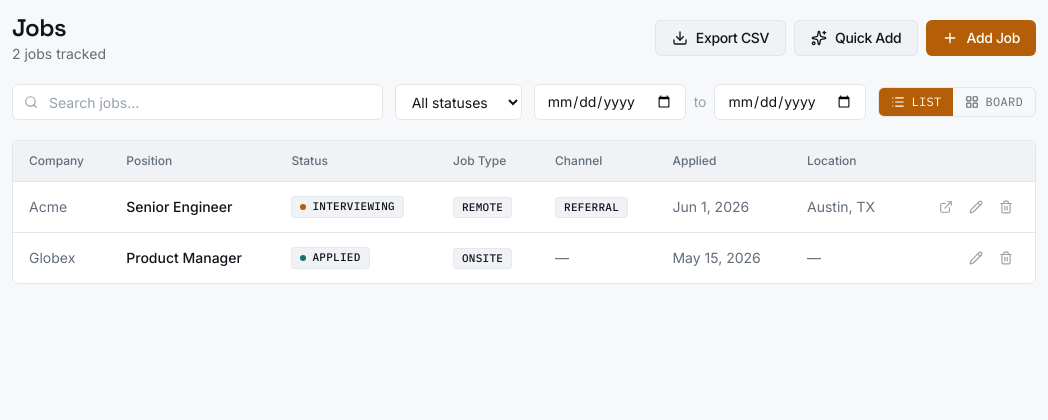
it: JobsPage › empty state › says no jobs match when a filter empties the list, and clears the filters
The image size is (1048, 420).
Expected: the text "Acme" is shown, [13,182,110,232]
Select "Offer" in the dropdown named "Filter by status" at (458, 102), box [395,84,522,120]
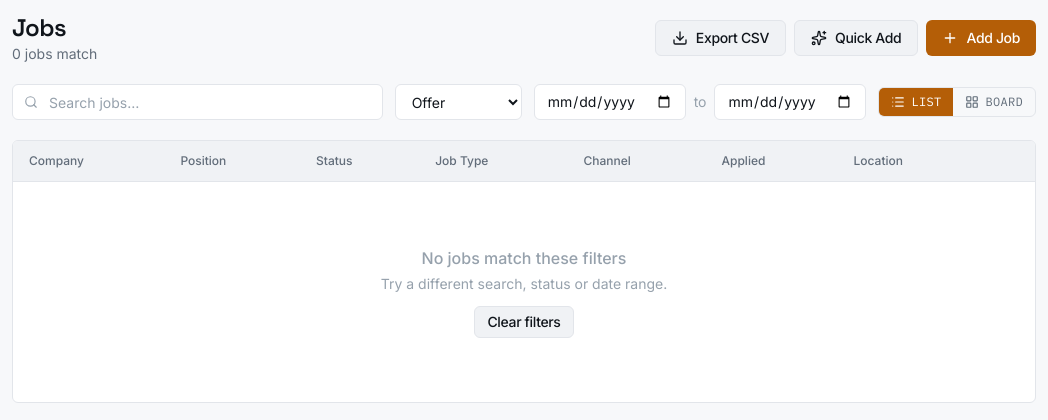
Now the text "No jobs match these filters" is shown, box [422,248,626,268]
Now the text "0 jobs match" is shown, box [12,44,97,64]
Click the button "Clear filters" at (524, 322), box [474,306,574,338]
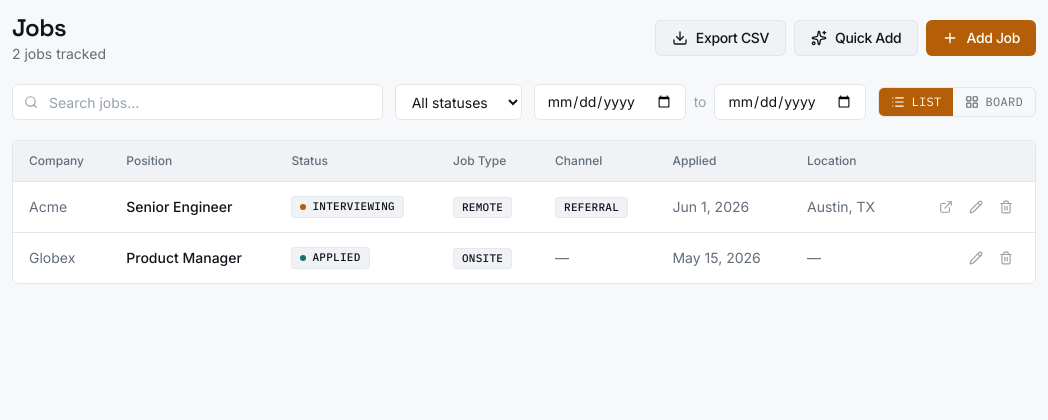
Now the text "Acme" is shown, box [13,182,110,232]
Now the text "2 jobs tracked" is shown, box [12,44,106,64]
